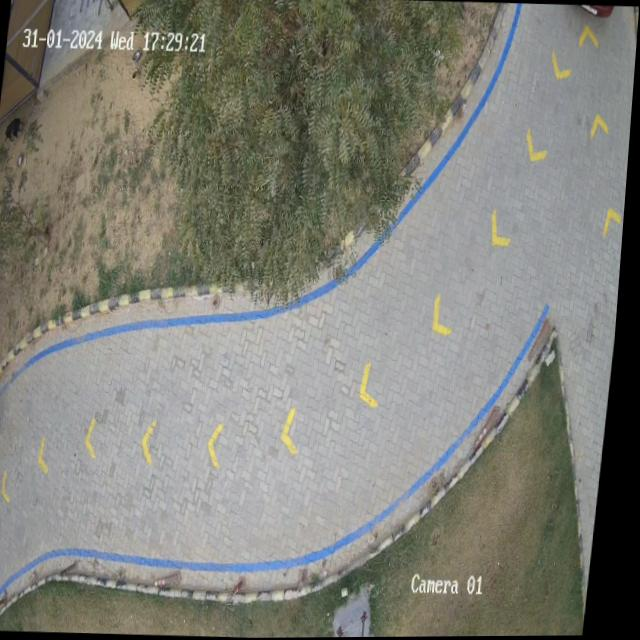car: (582, 7, 614, 17)
